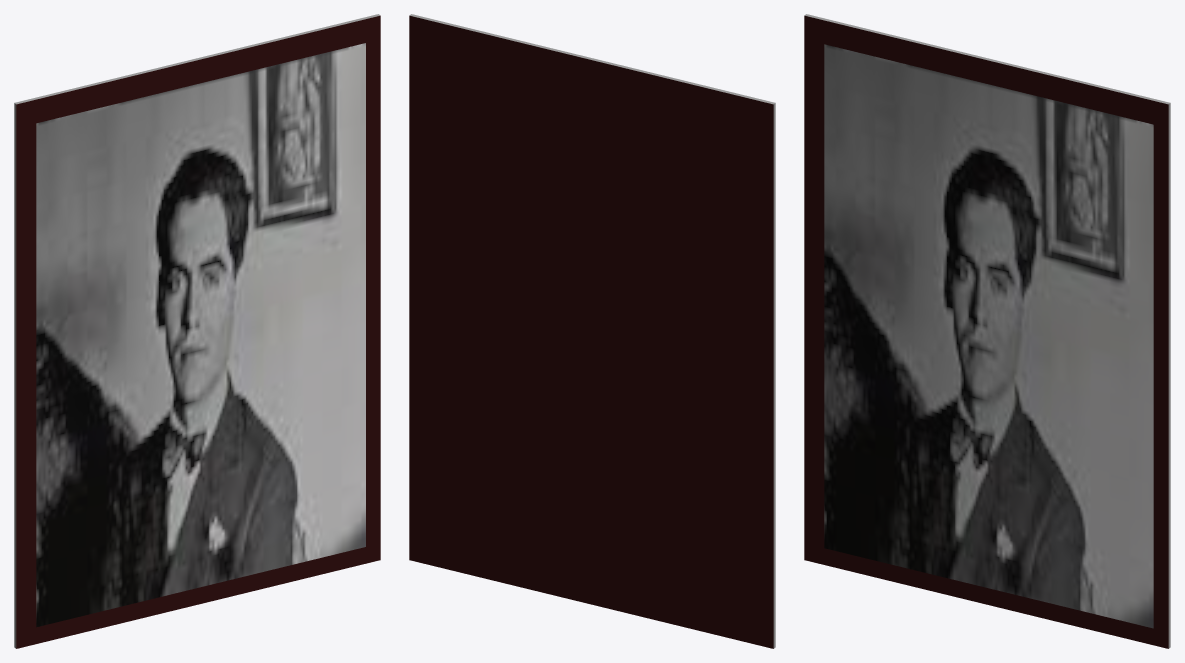
The model's file is cuadro.fbx.
The picture shows the model from 3 angles, left to right: view 1: azimuth 30°, elevation 25°; view 2: azimuth 150°, elevation 25°; view 3: azimuth 330°, elevation 25°; orthographic projection.
Visible parts, largest first — view 1: pCube1; view 2: pCube1; view 3: pCube1.
Part boxes in pixels (x1,y1,x2,y2): pCube1: (14, 14, 380, 648); pCube1: (409, 14, 775, 648); pCube1: (804, 14, 1170, 648).
Bounding box in the file's own units: 0.1939 × 0.277 × 0.002.
Materials: 3 (1 with a texture image).
